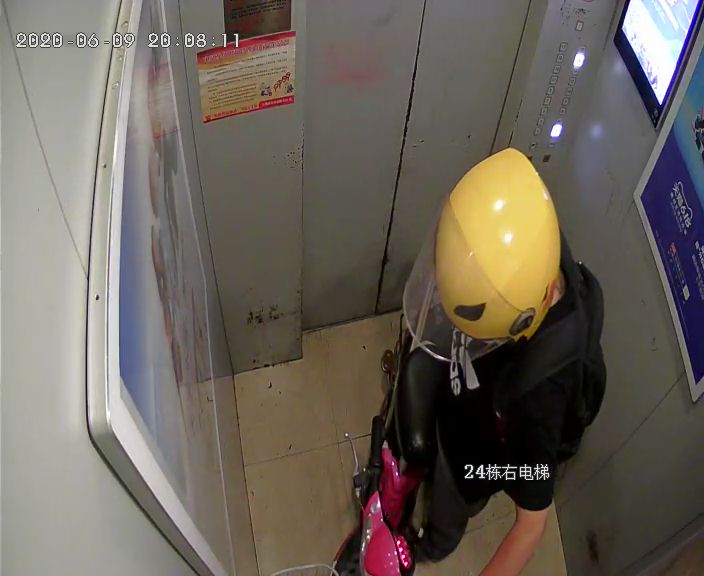Electric-bicycle: (345, 325, 446, 575)
